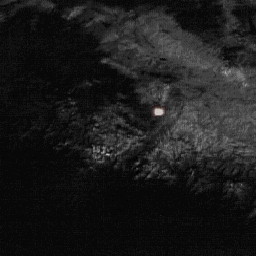Target: (152, 106, 166, 116)
